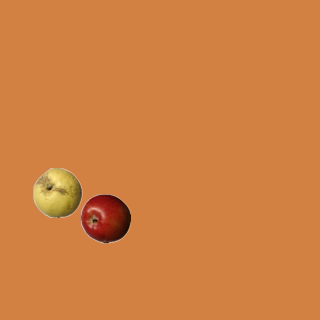Apple Braeburn: (80, 193, 130, 243)
Apple Golden 1: (32, 167, 82, 217)
